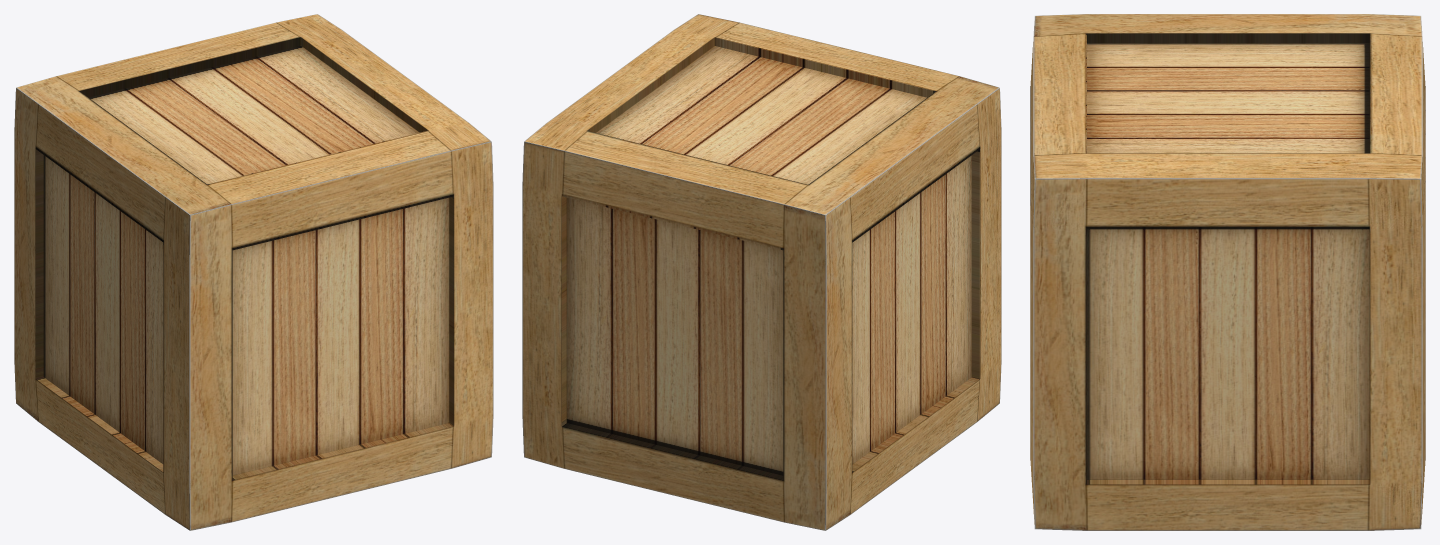
File: WoodBox.FBX
3 renders of one model, left to right at view 1: azimuth 30°, elevation 25°; view 2: azimuth 150°, elevation 25°; view 3: azimuth 270°, elevation 25°, orthographic. The views are drawn at different scales.
Parts seen in each view (by area): view 1: WoodBox; view 2: WoodBox; view 3: WoodBox.
Boxes of the visible parts, x1=… form: WoodBox: x1=14, y1=14, x2=493, y2=530; WoodBox: x1=522, y1=14, x2=1001, y2=530; WoodBox: x1=1030, y1=14, x2=1425, y2=530.
Bounding box in the file's own units: 98.59 × 98.59 × 98.59.
Materials: 1 (1 with a texture image).
